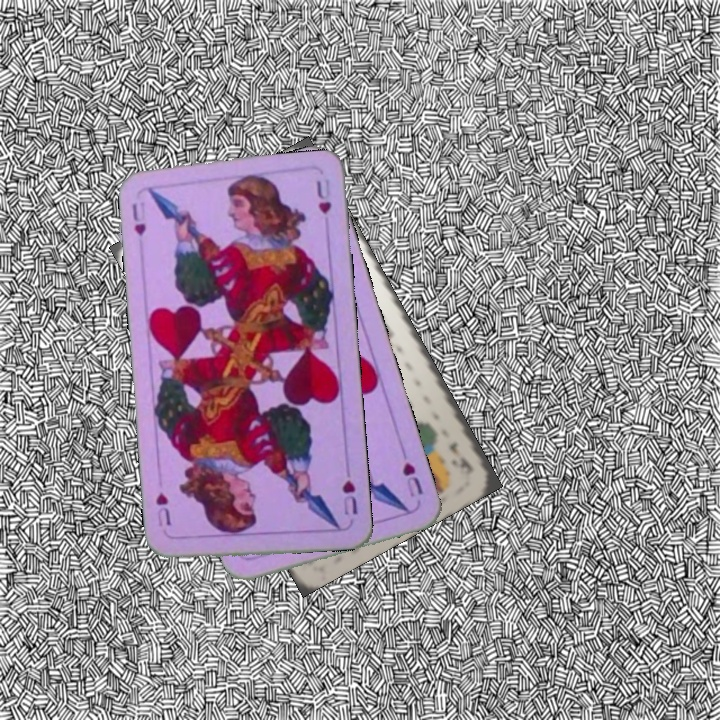EK: (444, 438, 476, 478)
HU: (397, 446, 426, 500), (338, 476, 360, 517), (128, 199, 149, 239)
